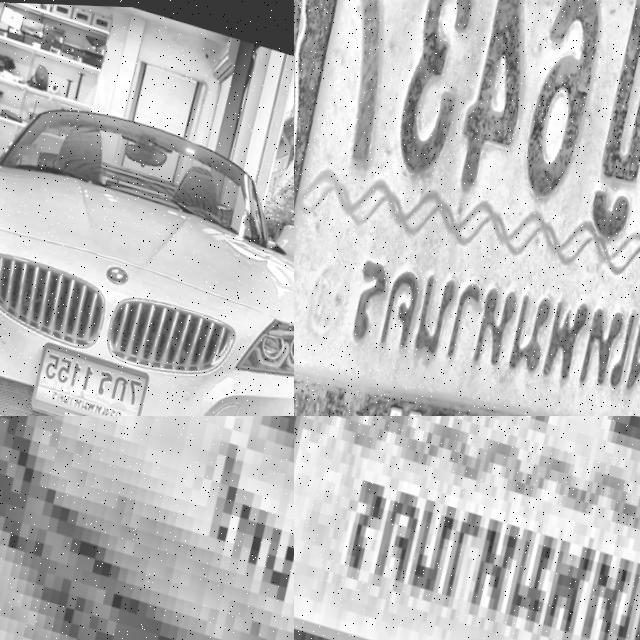license-plate: (294, 0, 640, 416), (294, 416, 640, 640), (0, 416, 294, 640), (20, 335, 153, 416)
